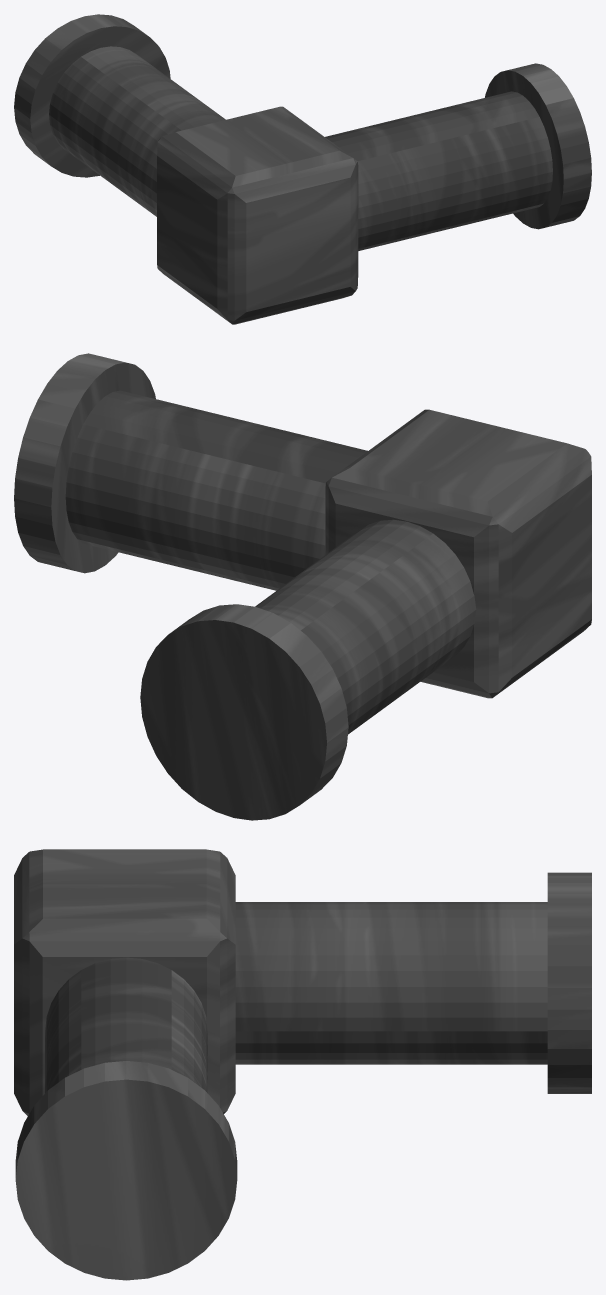
Rendered from pipe (1).glb.
3 views of the same model, one above another, from view 1: azimuth 30°, elevation 25°; view 2: azimuth 150°, elevation 25°; view 3: azimuth 270°, elevation 25° (orthographic). The views are drawn at different scales.
Parts seen in each view (by area): view 1: Cube; view 2: Cube; view 3: Cube.
Part boxes in pixels (x1,y1,x2,y2): Cube: [14, 14, 591, 324]; Cube: [14, 353, 591, 820]; Cube: [14, 849, 591, 1280].
Size of the model in its own units: 5.2 by 2 by 5.21.
1 material, 1 textured.
